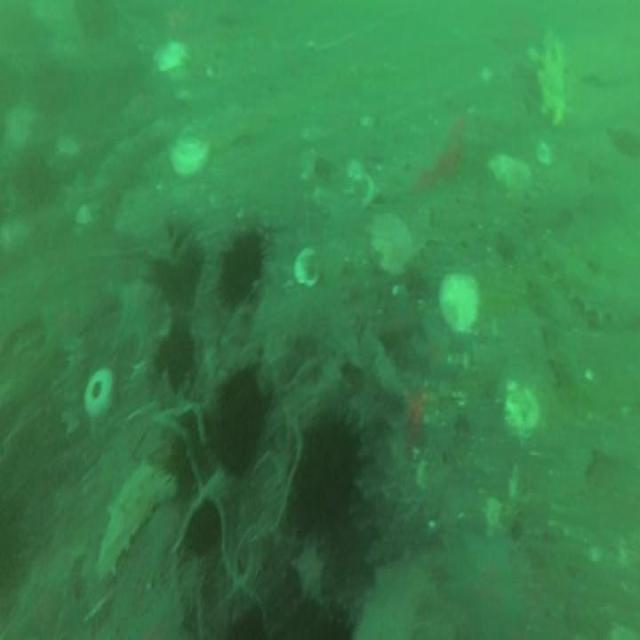echinus: (292, 411, 362, 526), (212, 370, 264, 471), (153, 232, 200, 304), (218, 237, 263, 302), (153, 331, 195, 394), (187, 503, 220, 556)
holothurian: (97, 458, 178, 580), (542, 234, 640, 324)
scallop: (366, 214, 411, 282), (437, 272, 480, 332), (169, 123, 207, 180)
starfish: (449, 526, 525, 637), (290, 540, 322, 604)
